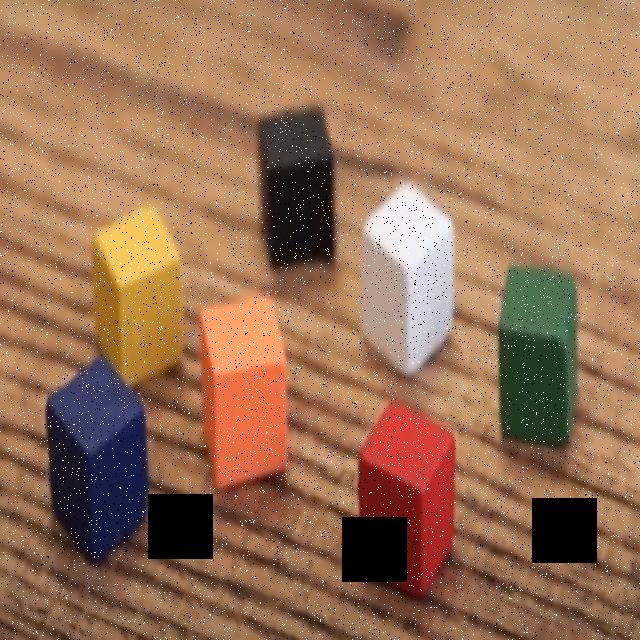bluecube: (44, 354, 149, 564)
green cube: (498, 265, 578, 443)
red cube: (357, 397, 456, 602)
